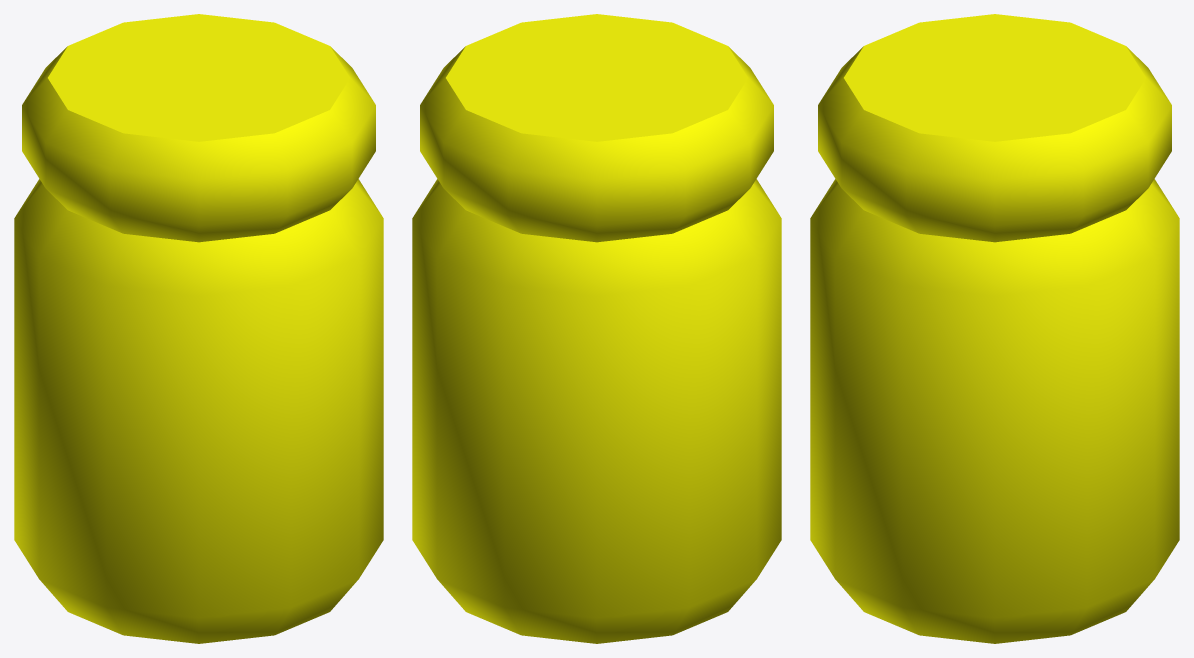
Rendered from jar_B_large.gltf.
The picture shows the model from 3 angles, left to right: view 1: azimuth 30°, elevation 25°; view 2: azimuth 150°, elevation 25°; view 3: azimuth 270°, elevation 25°; orthographic projection.
Visible parts, largest first — view 1: jar_B_large; view 2: jar_B_large; view 3: jar_B_large.
Boxes of the visible parts, left/top/right/bottom form: jar_B_large: left=14, top=14, right=383, bottom=643; jar_B_large: left=412, top=14, right=781, bottom=643; jar_B_large: left=810, top=14, right=1179, bottom=643.
Bounding box in the file's own units: 0.5 × 0.75 × 0.5.
1 material, 1 textured.
